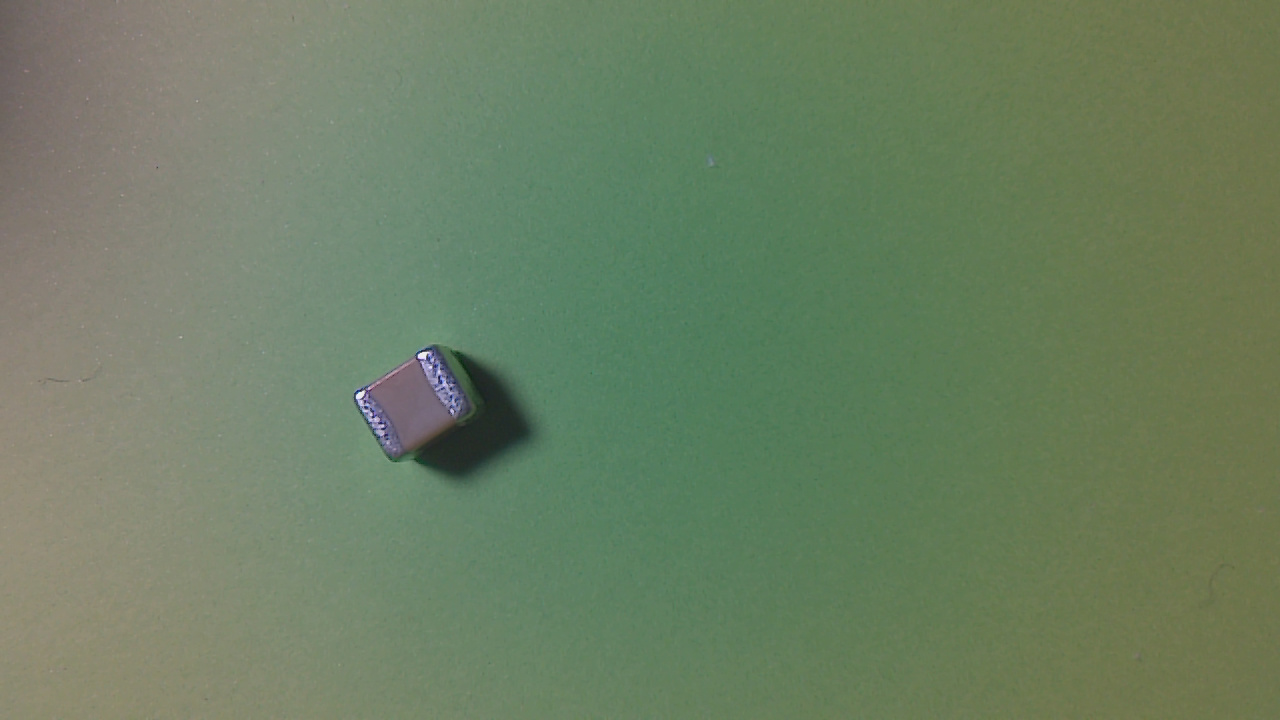Condensator: (355, 345, 486, 469)
